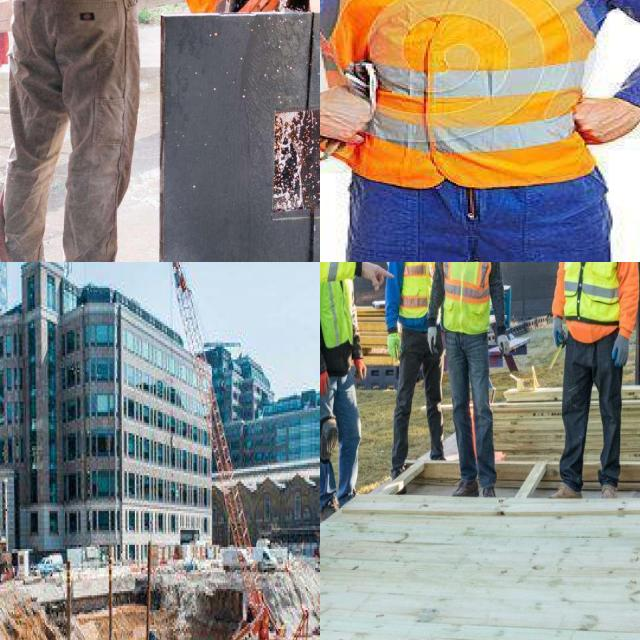hand_glove: (608, 332, 634, 370), (548, 312, 568, 348), (385, 330, 403, 367), (352, 354, 368, 388), (496, 332, 512, 359), (425, 327, 439, 355), (320, 366, 330, 402)
hand_noglove: (320, 64, 399, 157), (570, 80, 640, 151), (359, 262, 396, 294)
person: (320, 0, 640, 262), (0, 0, 164, 262), (553, 262, 640, 501), (434, 262, 511, 496), (383, 262, 445, 484), (320, 262, 372, 513)
vest: (323, 0, 640, 173), (562, 262, 627, 327), (440, 262, 495, 336), (400, 262, 443, 329)
